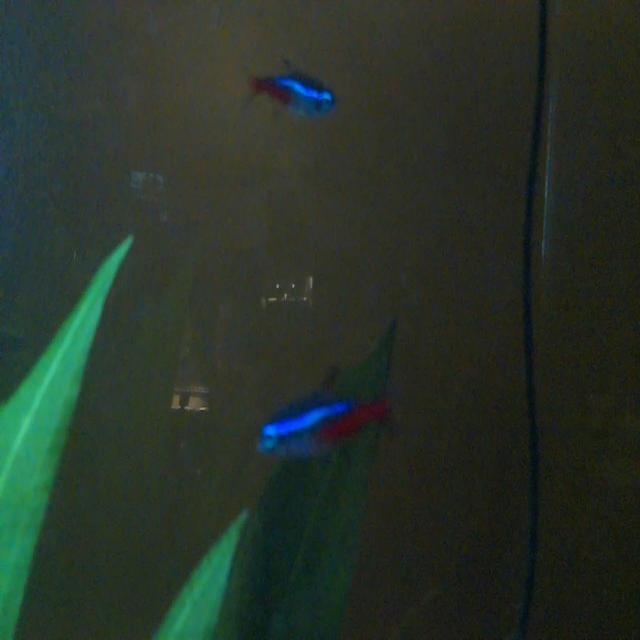fish: (232, 351, 402, 471), (233, 46, 344, 137)
